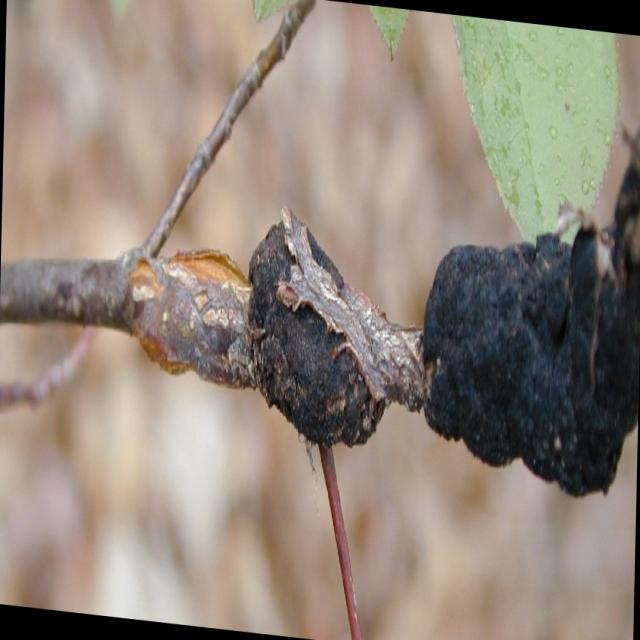Black_knot: (421, 224, 635, 498), (242, 186, 410, 467)
